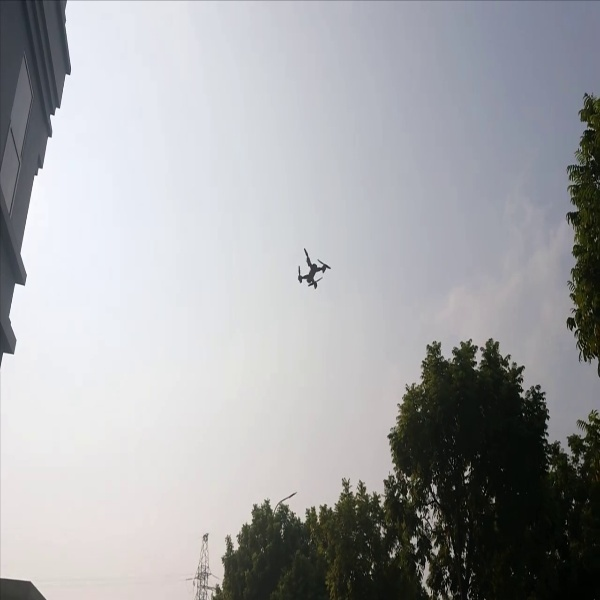drone: (291, 245, 333, 295)
